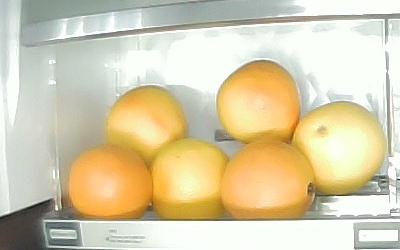grapefruit: (291, 101, 387, 196), (221, 138, 317, 218), (217, 60, 299, 145), (106, 85, 186, 167), (68, 144, 153, 219), (150, 139, 229, 219)
